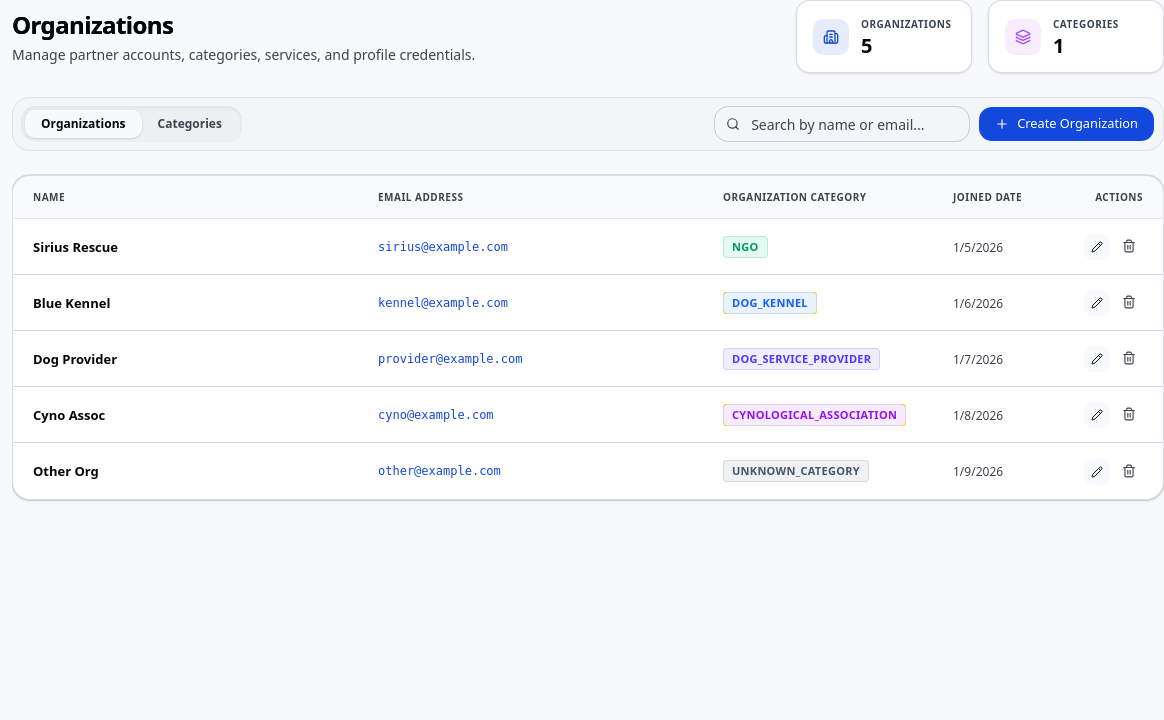
Test: OrganizationsTable Component › should toggle between Organizations List and Categories tabs
Click the button "Categories" at (190, 124), box [142,110,238,138]
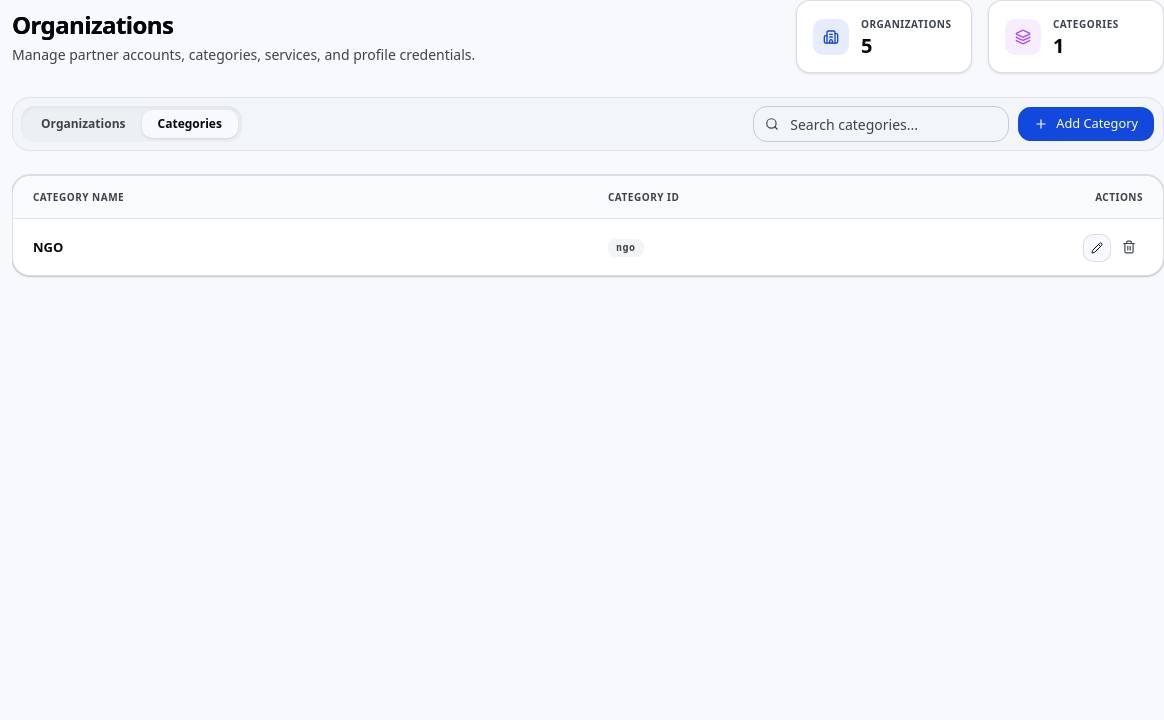
Expected: the field with placeholder "Search categories..." is shown, [753,106,1009,142]
Expected: the text "ngo" is shown, [608,239,644,257]
Toggle back to list
Click the button "Organizations" at (83, 124), box [25,110,142,138]
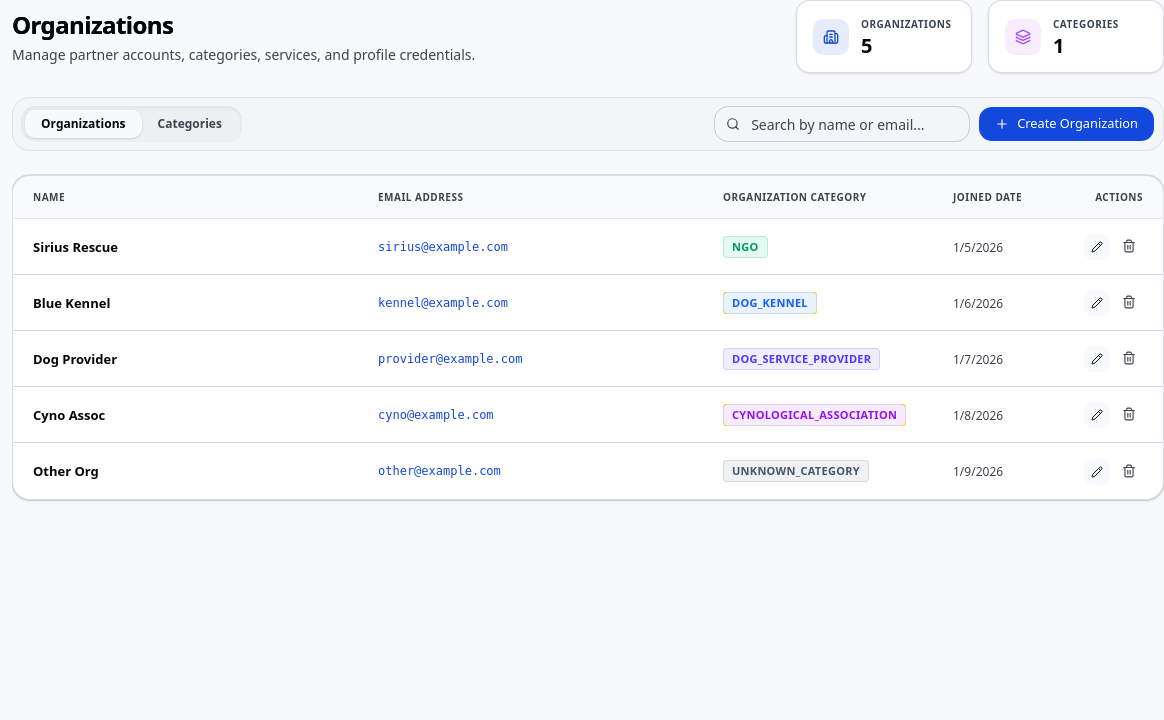
Expected: the field with placeholder "Search by name or email..." is shown, [714,106,970,142]
